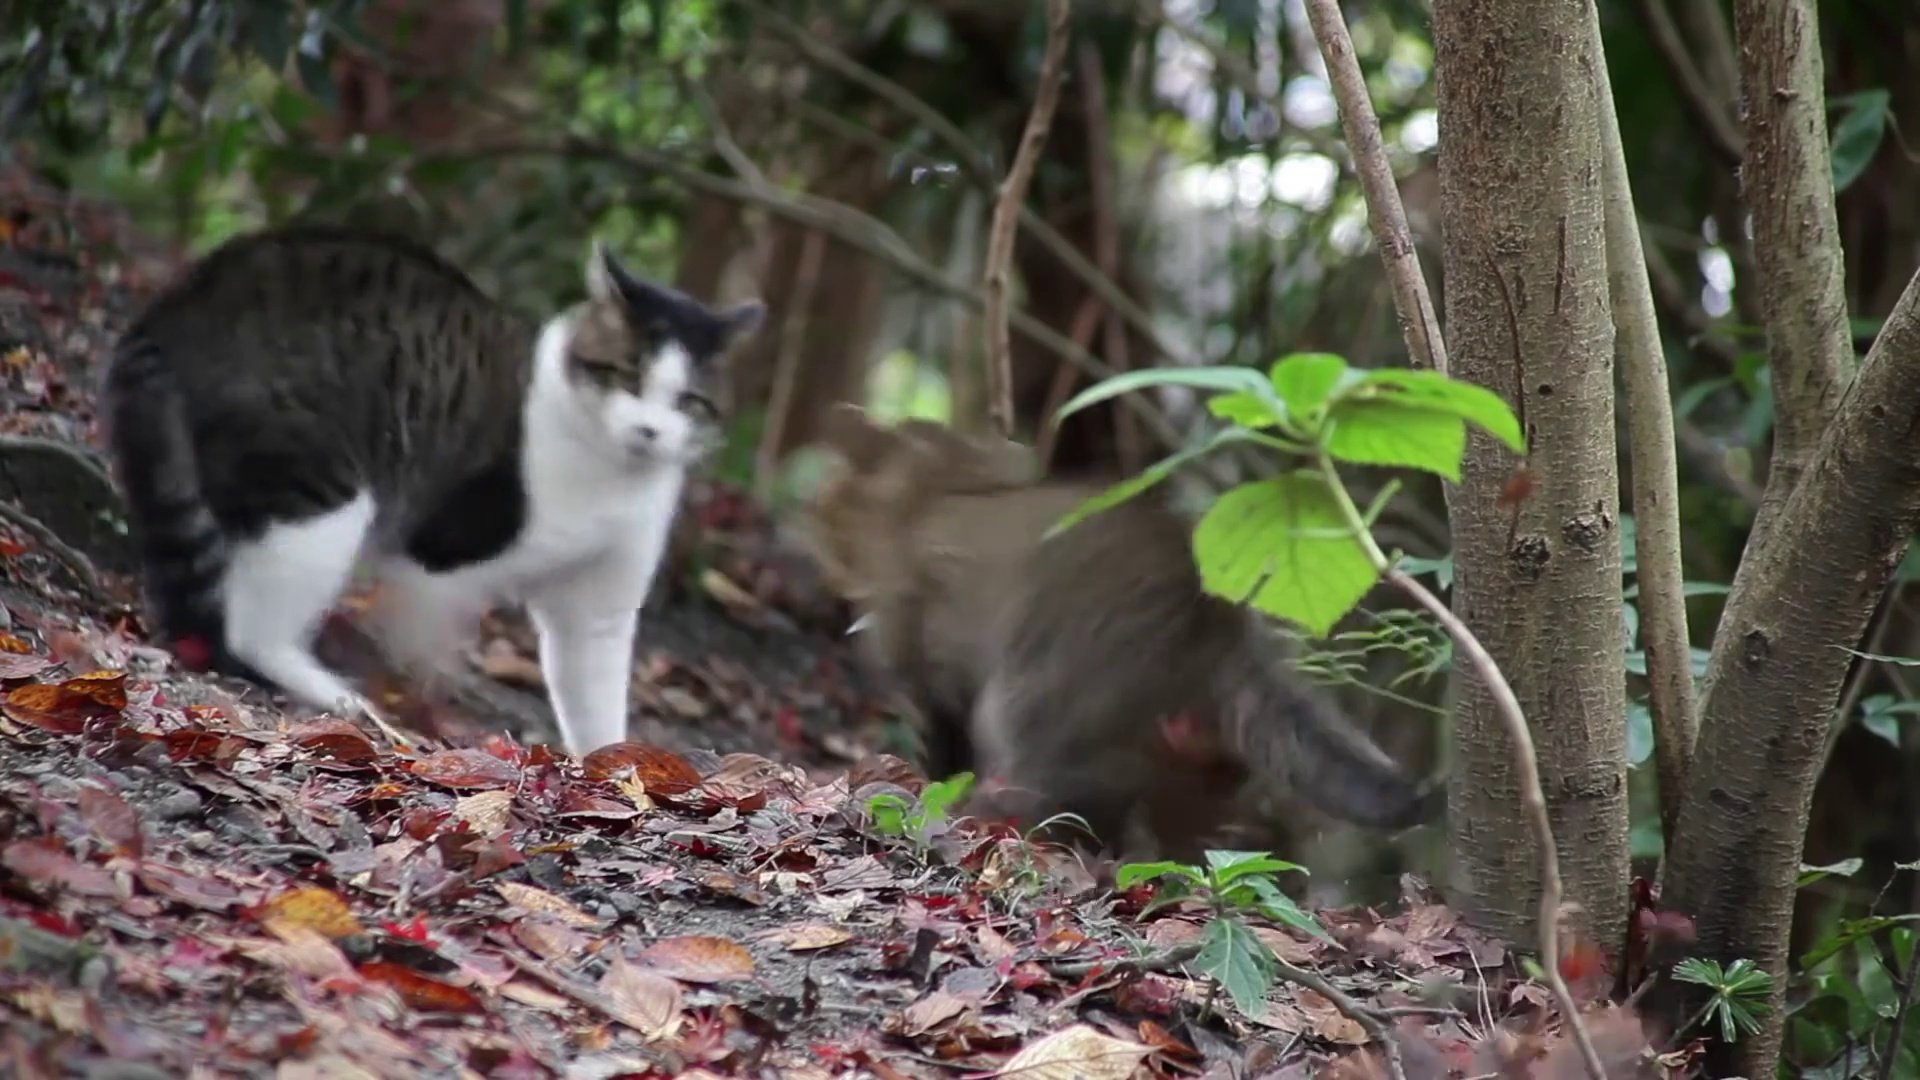black-white: (99, 218, 770, 765)
pure black: (778, 400, 1419, 835)
